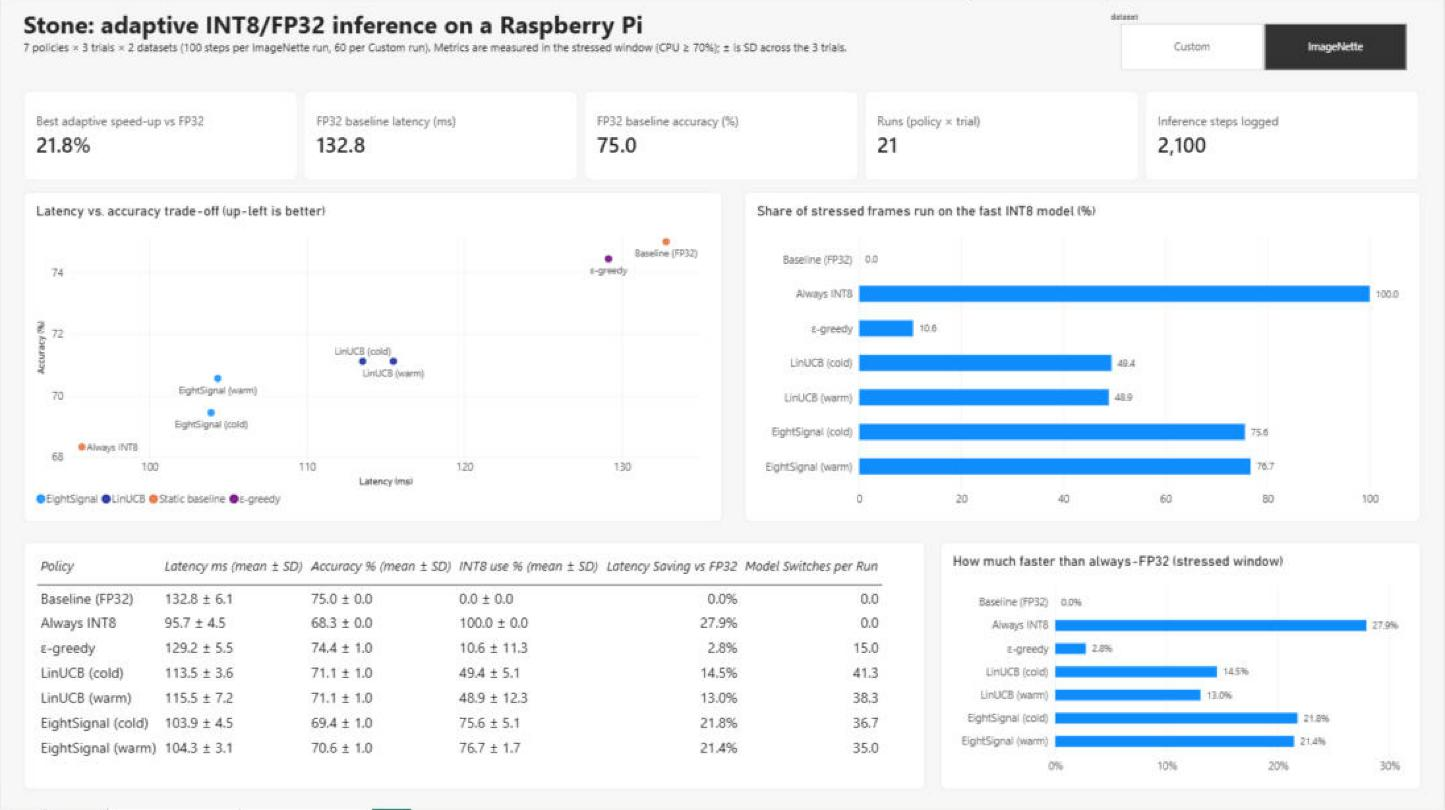

Layout of this report page (visuals, bound fields, positions):
{"tool":"powerbi","page":{"name":"Results overview","canvas":[1920,1080],"ordinal":0},"visuals":[{"type":"scatterChart","title":"Latency vs. accuracy trade-off (up-left is better)","fields":{"Category":["Configs.config_name"],"Series":["Configs.policy_family"],"X":["Datasets.Latency (ms)"],"Y":["Datasets.Accuracy (%)"]},"box":[30,260,930,440],"z":0},{"type":"clusteredBarChart","title":"Share of stressed frames run on the fast INT8 model (%)","fields":{"Category":["Configs.config_name"],"Y":["Datasets.INT8 Usage (%)"]},"box":[990,260,900,440],"z":1},{"type":"tableEx","fields":{"Values":["Configs.config_name","Datasets.Latency Label","Datasets.Accuracy Label","Datasets.INT8 Label","Datasets.Latency Saving vs FP32","Datasets.Model Switches per Run"]},"box":[30,725,1200,330],"z":2},{"type":"clusteredBarChart","title":"How much faster than always-FP32 (stressed window)","fields":{"Category":["Configs.config_name"],"Y":["Datasets.Latency Saving vs FP32"]},"box":[1250,725,640,330],"z":3},{"type":"slicer","fields":{"Values":["Datasets.dataset"]},"box":[1470,20,420,80],"z":4},{"type":"textbox","box":[30,15,1400,110],"z":5},{"type":"cardVisual","fields":{"Data":["Datasets.Best Latency Saving (adaptive)","Datasets.FP32 Baseline Latency","Datasets.FP32 Baseline Accuracy","Datasets.Runs","Datasets.Inference Steps"]},"box":[30,125,1860,120],"z":6}]}

Visuals, with their boxes in screenshot pixels (x1, y1, x2, y2), scaled from the page's 1920x1080 canvas onto the 1445x810 screenshot:
"Latency vs. accuracy trade-off (up-left is better)" scatterChart: box=[23, 195, 722, 525]
"Share of stressed frames run on the fast INT8 model (%)" clusteredBarChart: box=[745, 195, 1422, 525]
tableEx - Configs.config_name x Datasets.Latency Label: box=[23, 544, 926, 791]
"How much faster than always-FP32 (stressed window)" clusteredBarChart: box=[941, 544, 1422, 791]
slicer - Datasets.dataset: box=[1106, 15, 1422, 75]
textbox: box=[23, 11, 1076, 94]
cardVisual - Datasets.Best Latency Saving (adaptive) x Datasets.FP32 Baseline Latency: box=[23, 94, 1422, 184]
